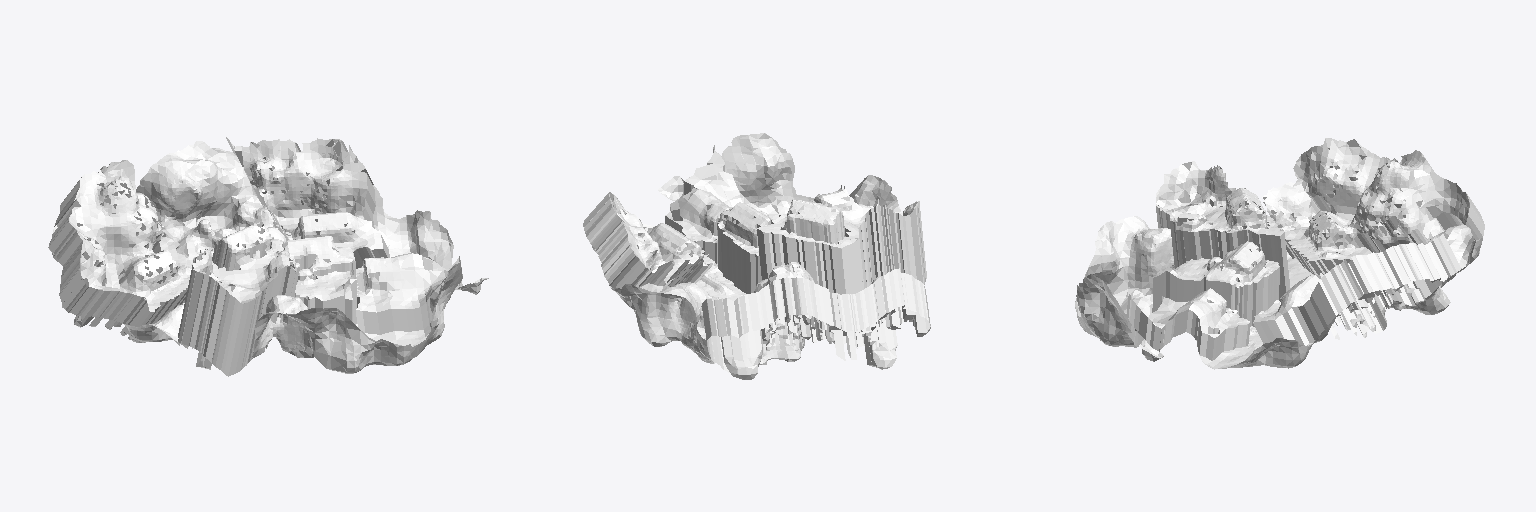
Rendered from Houses.obj.
3 views of the same model, side by side, from view 1: azimuth 30°, elevation 25°; view 2: azimuth 150°, elevation 25°; view 3: azimuth 270°, elevation 25° (orthographic).
Bounding box in the file's own units: 3.83 × 1.22 × 3.8.